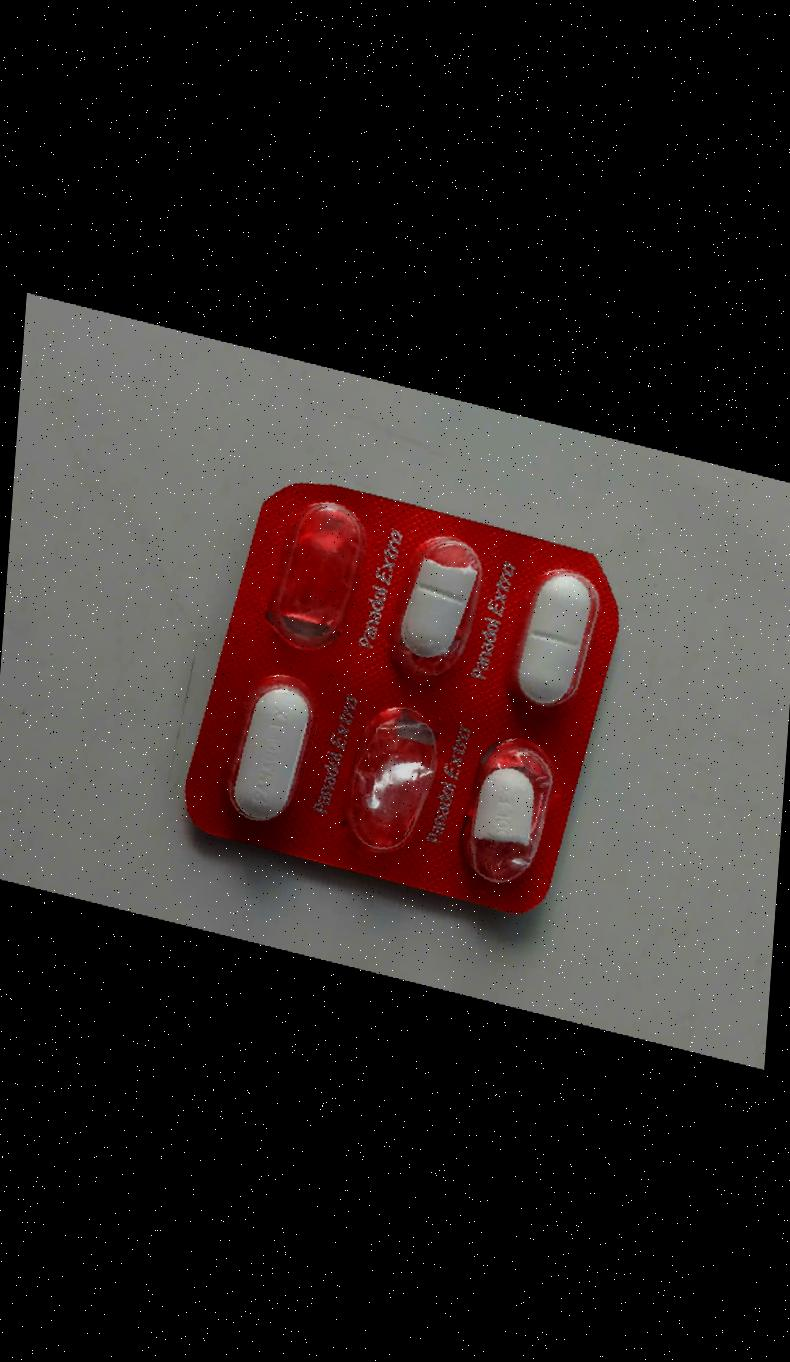Empty: (322, 691, 455, 873), (246, 488, 379, 670)
Full: (200, 670, 333, 852), (487, 546, 619, 728)
Partial: (372, 520, 505, 702), (449, 720, 581, 902)
